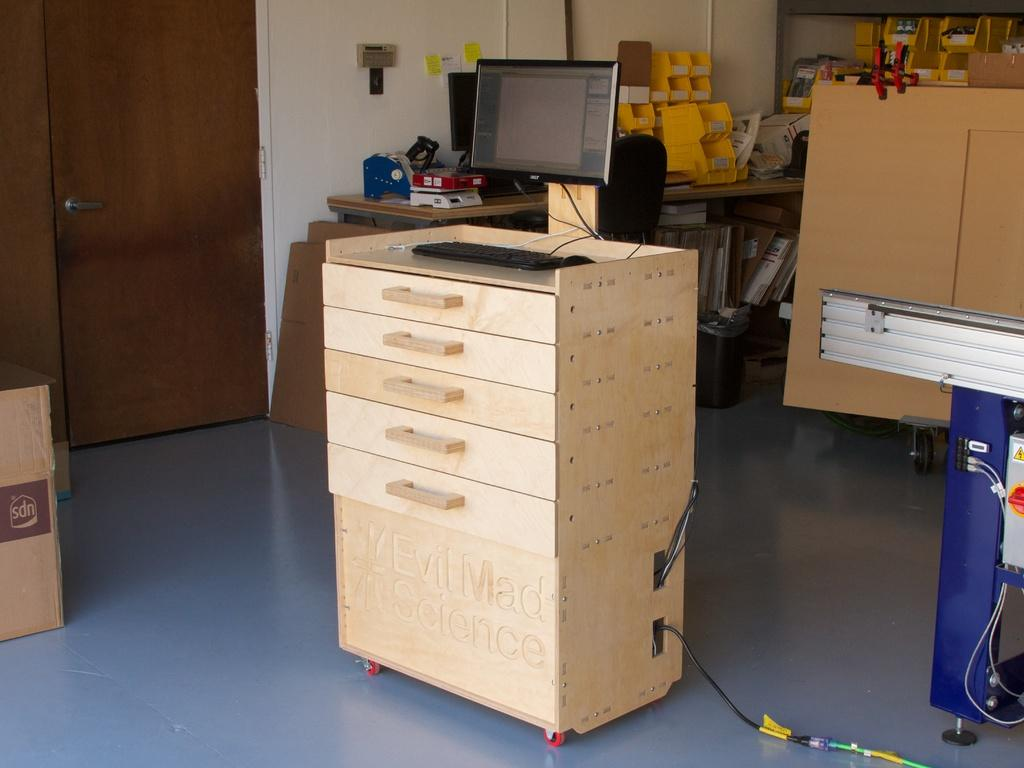Computer-monitor: (483, 68, 647, 204), (444, 69, 481, 170)
